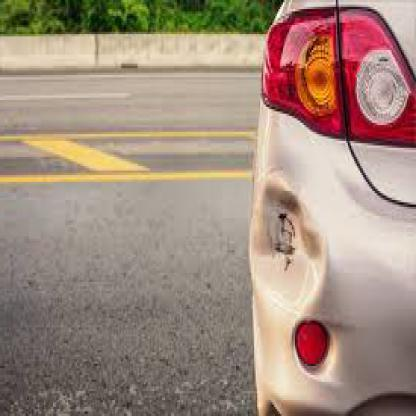dent: (262, 174, 323, 294)
